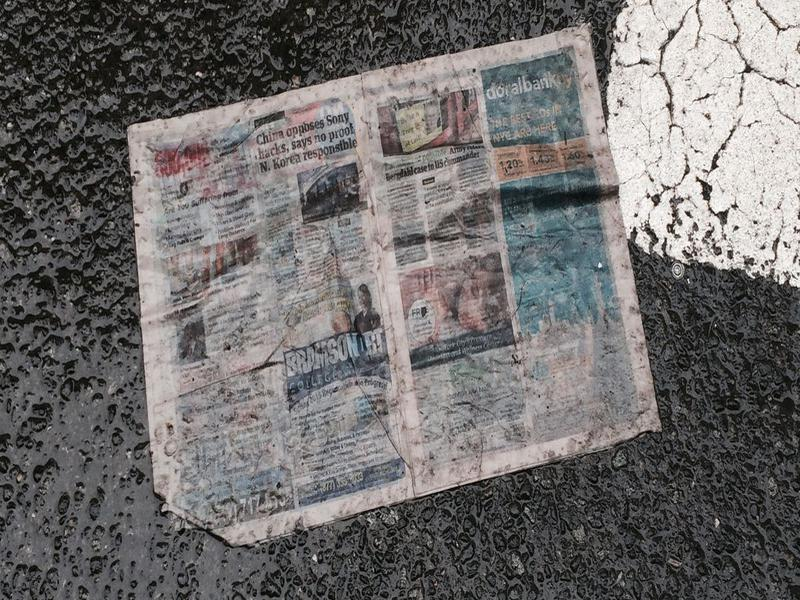paper: (107, 20, 664, 551)
